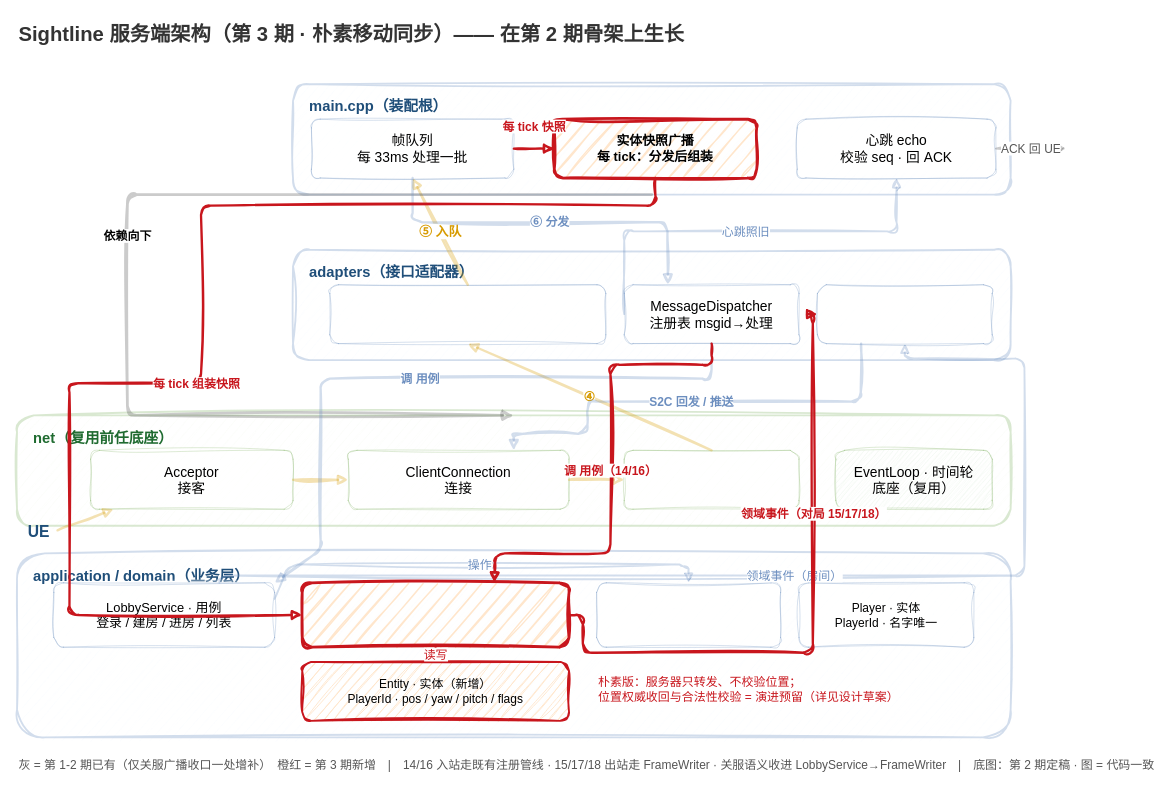
This 1170x791 diagram has some shape labels left out. Here are the shapes that lost their labels. From the top down, the box of each, then its label:
(329, 284, 606, 344): FrameCodec 切帧
(816, 284, 992, 344): FrameWriter 领域事件→帧
(623, 449, 799, 509): Buffer 攒字节
(300, 581, 570, 648): MatchService · 用例（新增） 开始对局（校验房主） 位置暂存 / 快照组装
(596, 582, 781, 647): Room · 实体 成员 ≤4 · 房主=最早加入者
